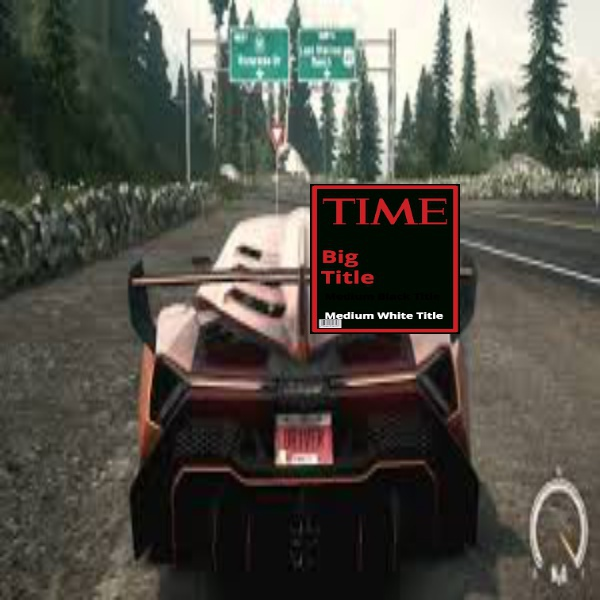time_cover: (307, 177, 465, 345)
